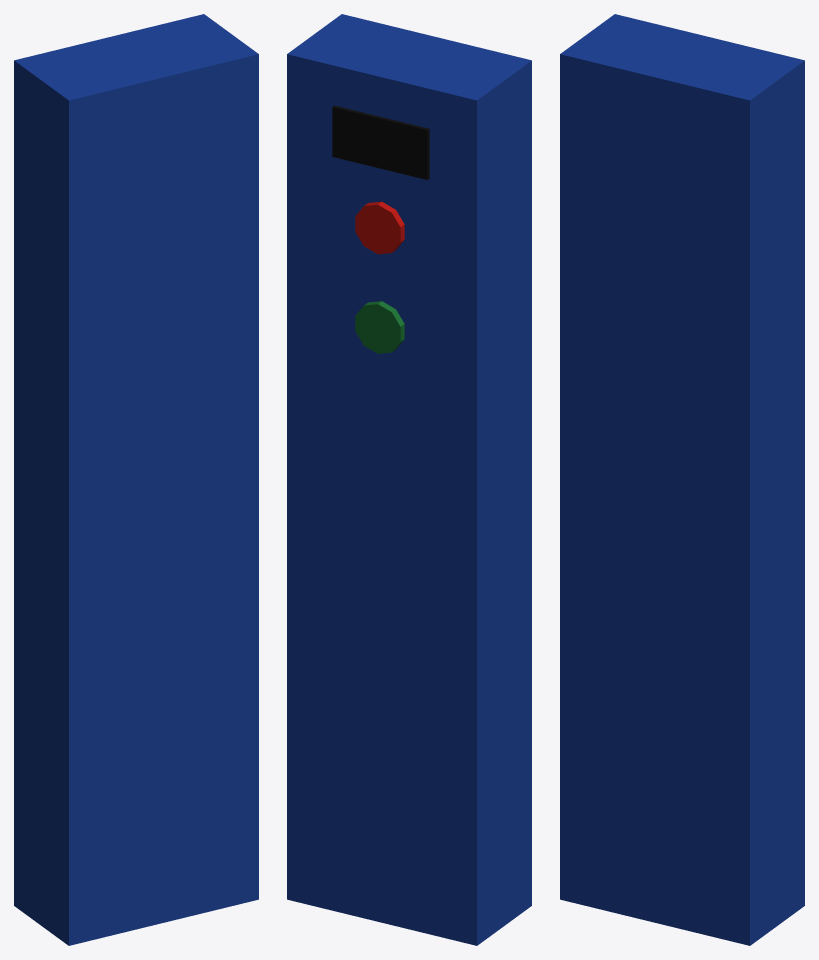
Rendered from station.rail.help_point.glb.
3 views of the same model, side by side, from view 1: azimuth 30°, elevation 25°; view 2: azimuth 150°, elevation 25°; view 3: azimuth 330°, elevation 25° (orthographic).
Visible parts, largest first — view 1: main__plastic_blue; view 2: main__plastic_blue, main__plastic_black, main__plastic_red, main__plastic_green; view 3: main__plastic_blue.
Boxes of the visible parts, bbox=[...] form: main__plastic_blue: bbox=[14, 14, 258, 945]; main__plastic_blue: bbox=[287, 14, 531, 945]; main__plastic_black: bbox=[332, 105, 429, 179]; main__plastic_red: bbox=[355, 201, 404, 254]; main__plastic_green: bbox=[355, 301, 404, 353]; main__plastic_blue: bbox=[560, 14, 804, 945].
Bounding box in the file's own units: 0.4 × 1.7 × 0.215.
